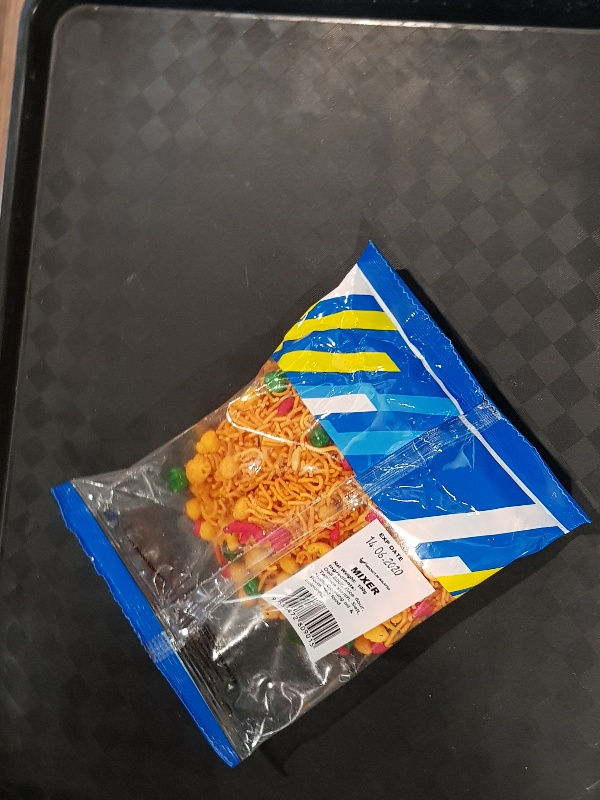Star Tidbits Mixer: (47, 237, 591, 766)
